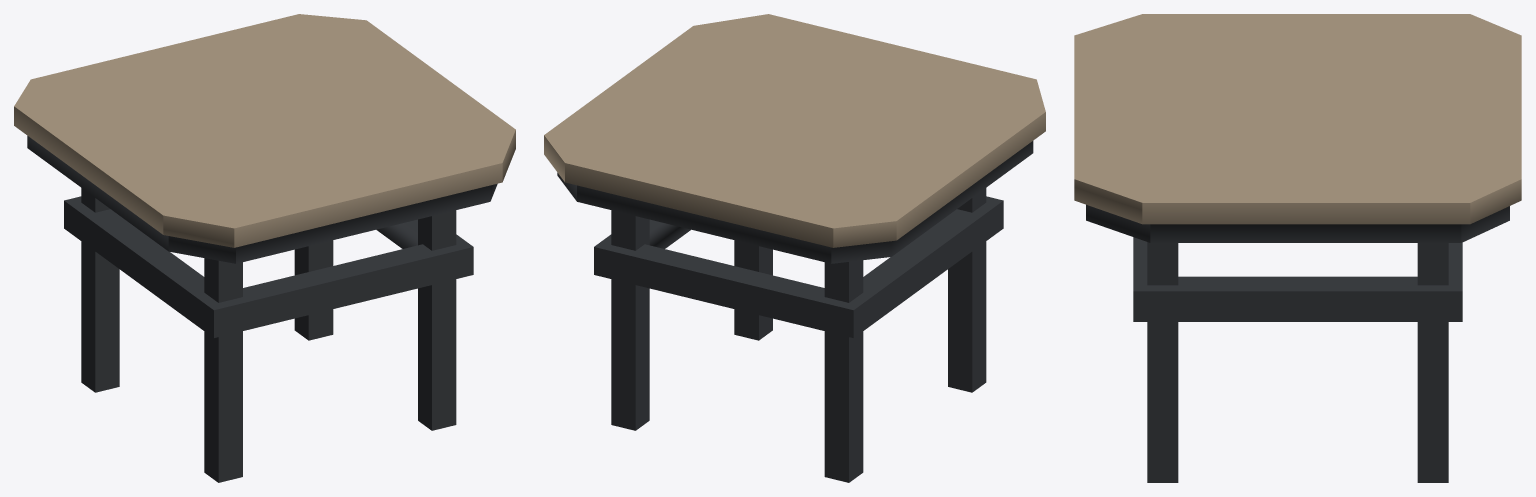
The model's file is SM_Prop_CoffeeTable_03.glb.
The picture shows the model from 3 angles, left to right: view 1: azimuth 30°, elevation 25°; view 2: azimuth 150°, elevation 25°; view 3: azimuth 270°, elevation 25°; orthographic projection. The views are drawn at different scales.
Visible parts, largest first — view 1: SM_Prop_CoffeeTable_03; view 2: SM_Prop_CoffeeTable_03; view 3: SM_Prop_CoffeeTable_03.
Part boxes in pixels (box(x1,y1,x2,y2)): SM_Prop_CoffeeTable_03: box(14, 14, 515, 482); SM_Prop_CoffeeTable_03: box(544, 14, 1045, 482); SM_Prop_CoffeeTable_03: box(1074, 14, 1521, 482).
Bounding box in the file's own units: 0.6946 × 0.5328 × 0.6946.
Materials: 1 (1 with a texture image).
